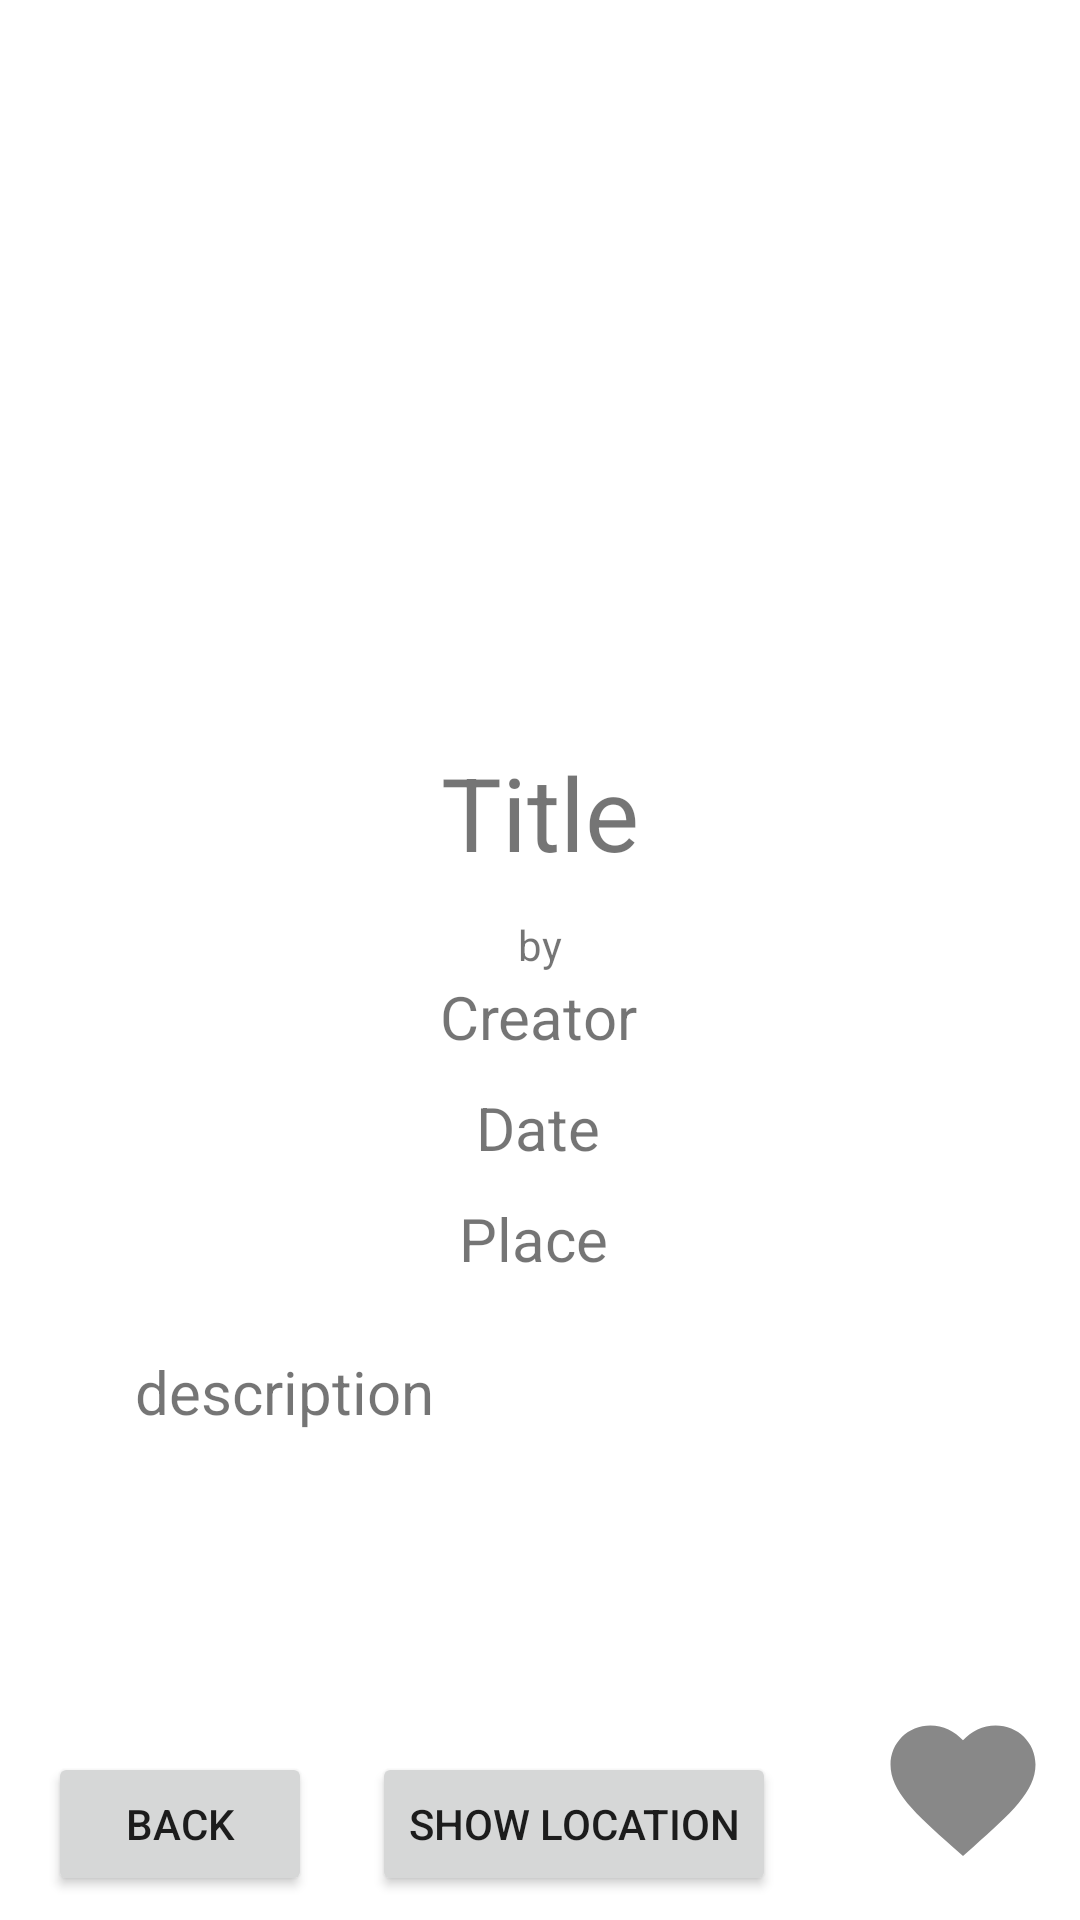

Named icons in this screenshot (1080 × 1920) and their centers, point (x, y):
fav: point (963, 1790)
